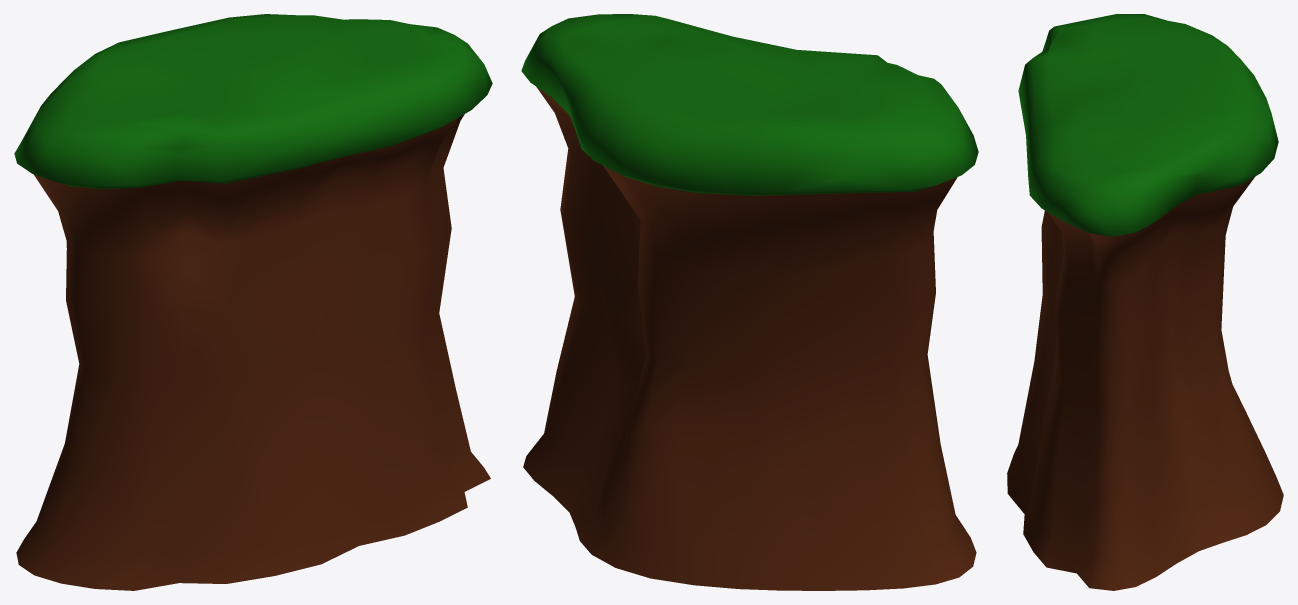
The model's file is land_03.fbx.
3 renders of one model, left to right at view 1: azimuth 30°, elevation 25°; view 2: azimuth 150°, elevation 25°; view 3: azimuth 270°, elevation 25°, orthographic. The views are drawn at different scales.
Parts seen in each view (by area): view 1: land_03; view 2: land_03; view 3: land_03.
Boxes of the visible parts, box(x1,y1,x2,y2) form: land_03: box(14, 14, 492, 590); land_03: box(521, 14, 978, 590); land_03: box(1007, 14, 1283, 590).
Size of the model in its own units: 3.85 by 2.26 by 3.67.
